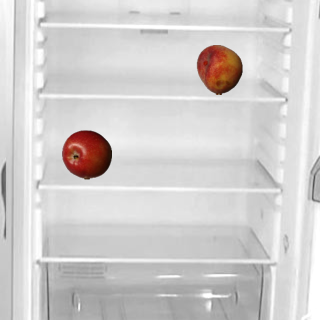Apple Braeburn: (61, 129, 111, 179)
Peach: (194, 44, 244, 94)
